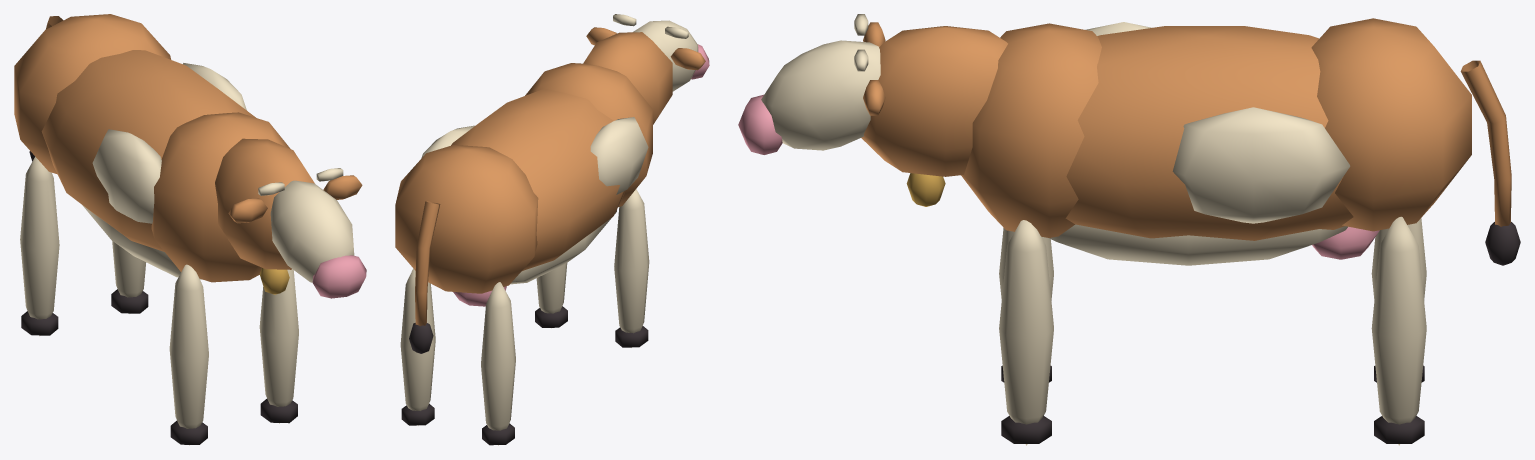
Rendered from cow.glb.
3 views of the same model, side by side, from view 1: azimuth 30°, elevation 25°; view 2: azimuth 150°, elevation 25°; view 3: azimuth 270°, elevation 25° (orthographic). The views are drawn at different scales.
Visible parts, largest first — view 1: cow; view 2: cow; view 3: cow.
Boxes of the visible parts, x1,y1,x2,y2 form: cow: (14,14,366,445); cow: (395,14,709,445); cow: (738,14,1520,445).
Bounding box in the file's own units: 0.78 × 1.33 × 2.42.
